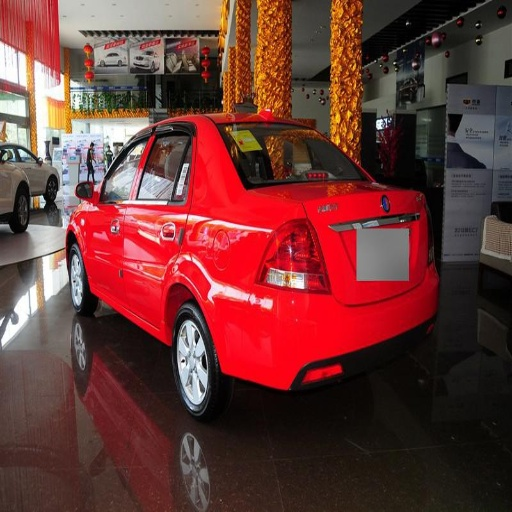back_bumper: (215, 268, 486, 472)
back_glass: (235, 125, 361, 186)
back_left_door: (124, 125, 189, 324)
tailgate: (293, 175, 417, 303)
trunk: (188, 217, 224, 269)
